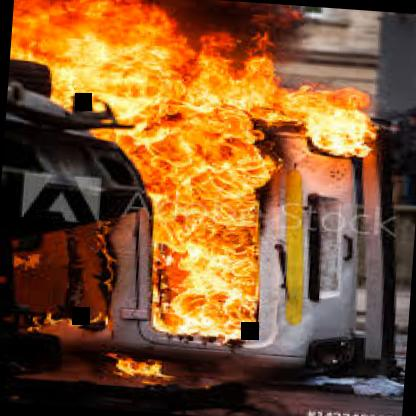fire: (31, 18, 346, 342)
